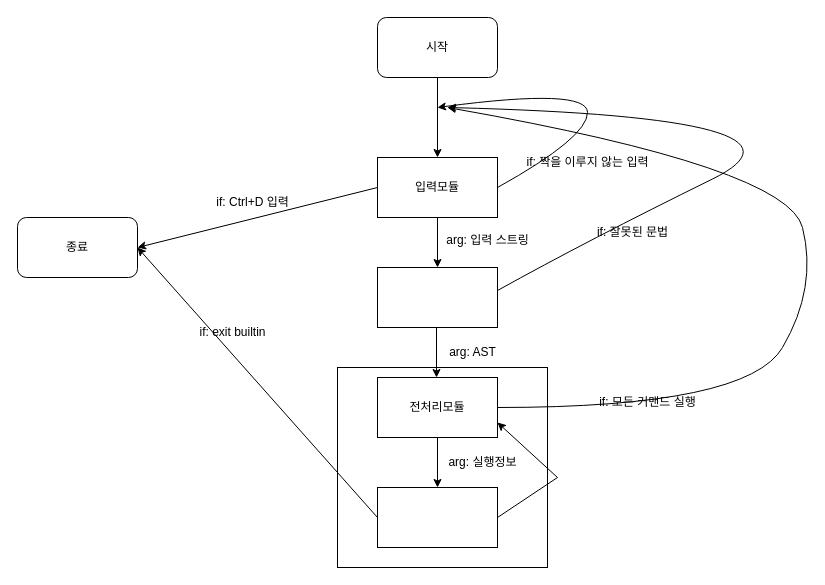
The diagram is 825 pixels wide and 585 high, and some of its shapes have lost their labels. The shapes that lost their labels are listed below. From the top down, each one's centre as x and y in pixels, then its label:
the point at 437,297: 파싱모듈
the point at 437,517: 로더모듈
